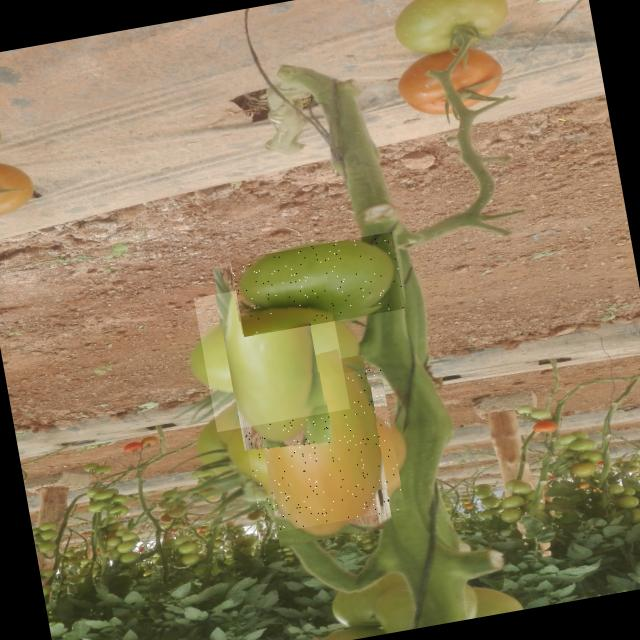Unripe Tomato: (237, 366, 405, 534), (193, 274, 350, 431), (230, 232, 405, 336)
